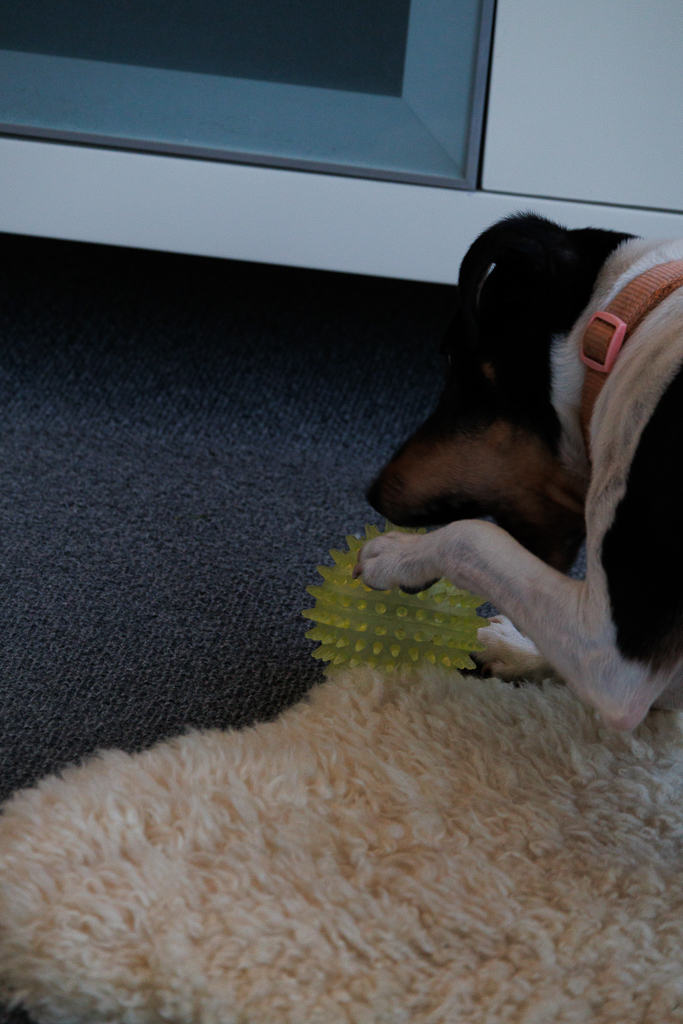Dog: (336, 203, 682, 762)
